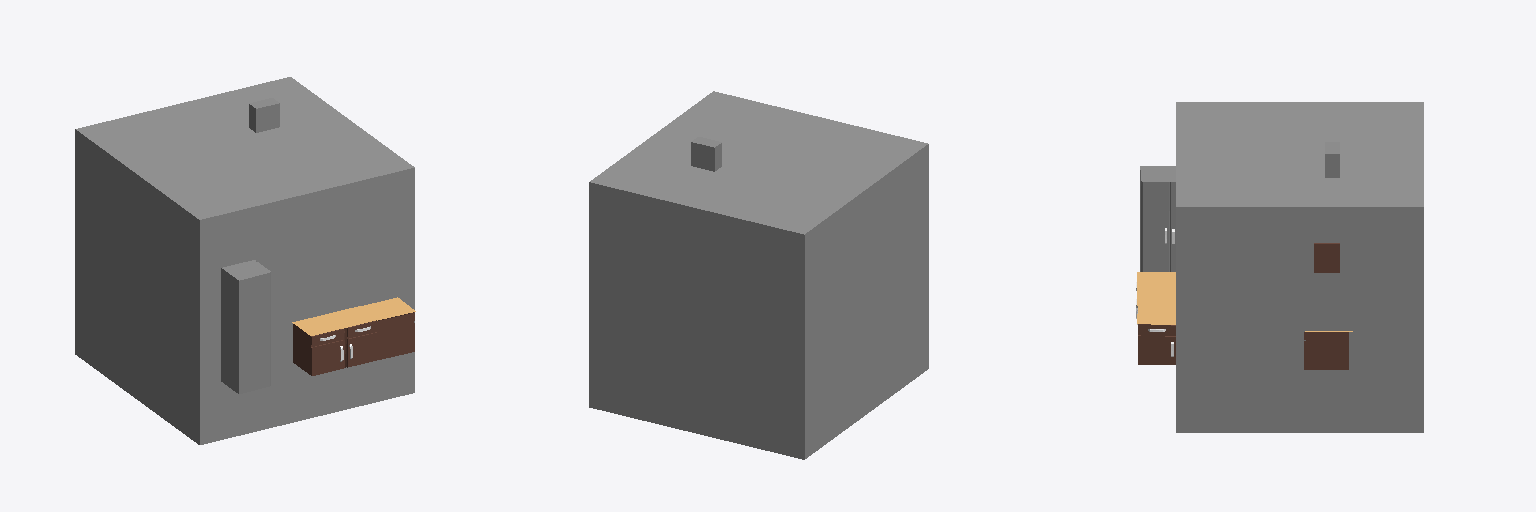
The picture shows the model from 3 angles: view 1: azimuth 30°, elevation 25°; view 2: azimuth 150°, elevation 25°; view 3: azimuth 270°, elevation 25°; orthographic projection.
Parts seen in each view (by area): view 1: Cube, mesh[number redacted].001, mesh[number redacted], mesh[number redacted].001, mesh[number redacted].001; view 2: Cube, mesh[number redacted].001; view 3: Cube, mesh[number redacted].001, mesh[number redacted].001, mesh[number redacted].001, mesh[number redacted], mesh[number redacted].001, mesh[number redacted].001.
Part boxes in pixels (x1,y1,x2,y2): Cube: (75,77,414,444); mesh[number redacted].001: (221,260,270,393); mesh[number redacted]: (292,306,379,375); mesh[number redacted].001: (362,297,415,359); mesh[number redacted].001: (249,98,279,132); Cube: (589,91,928,459); mesh[number redacted].001: (691,137,721,171); Cube: (1176,102,1423,432); mesh[number redacted].001: (1140,166,1175,271); mesh[number redacted].001: (1137,306,1175,364); mesh[number redacted].001: (1304,331,1352,369); mesh[number redacted]: (1137,272,1175,305); mesh[number redacted].001: (1314,243,1339,272); mesh[number redacted].001: (1325,142,1339,177).
Size of the model in its own units: 2.02 by 2.21 by 2.32.